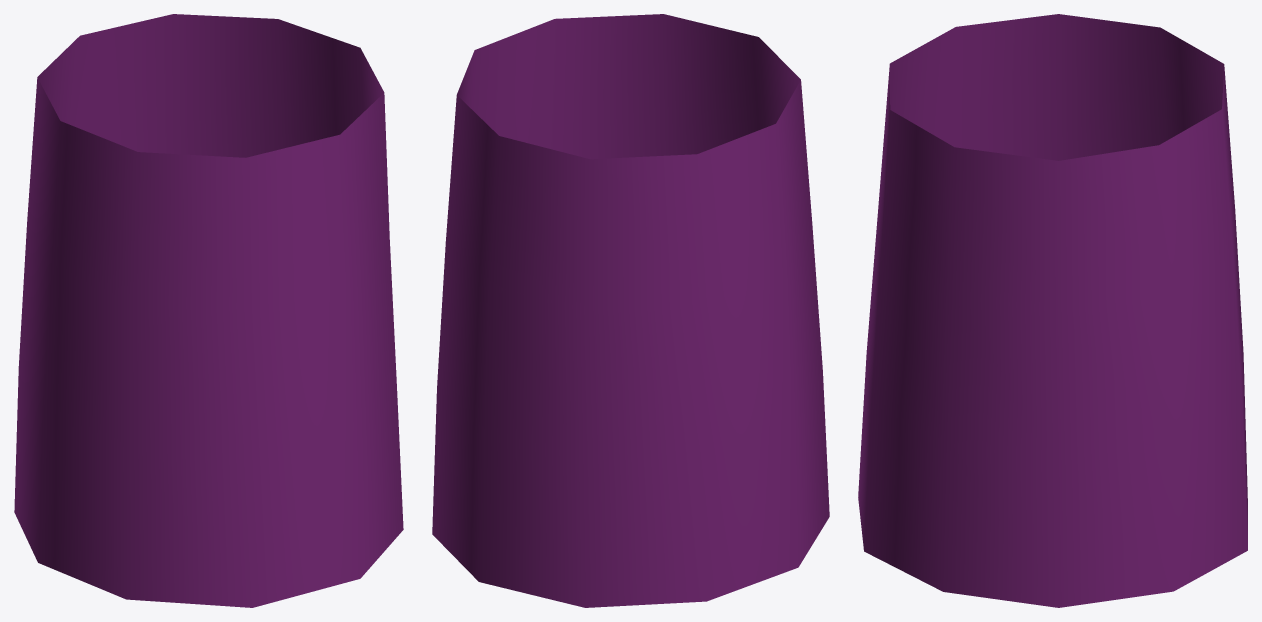
File: nebula_armor_bracer.L.glb
3 renders of one model, left to right at view 1: azimuth 30°, elevation 25°; view 2: azimuth 150°, elevation 25°; view 3: azimuth 270°, elevation 25°, orthographic.
Visible parts, largest first — view 1: nebula_armor_bracer.L; view 2: nebula_armor_bracer.L; view 3: nebula_armor_bracer.L.
Part boxes in pixels (x1,y1,x2,y2): nebula_armor_bracer.L: (14, 14, 403, 607); nebula_armor_bracer.L: (432, 14, 829, 607); nebula_armor_bracer.L: (858, 14, 1247, 607).
Size of the model in its own units: 0.1277 by 0.1562 by 0.126.
